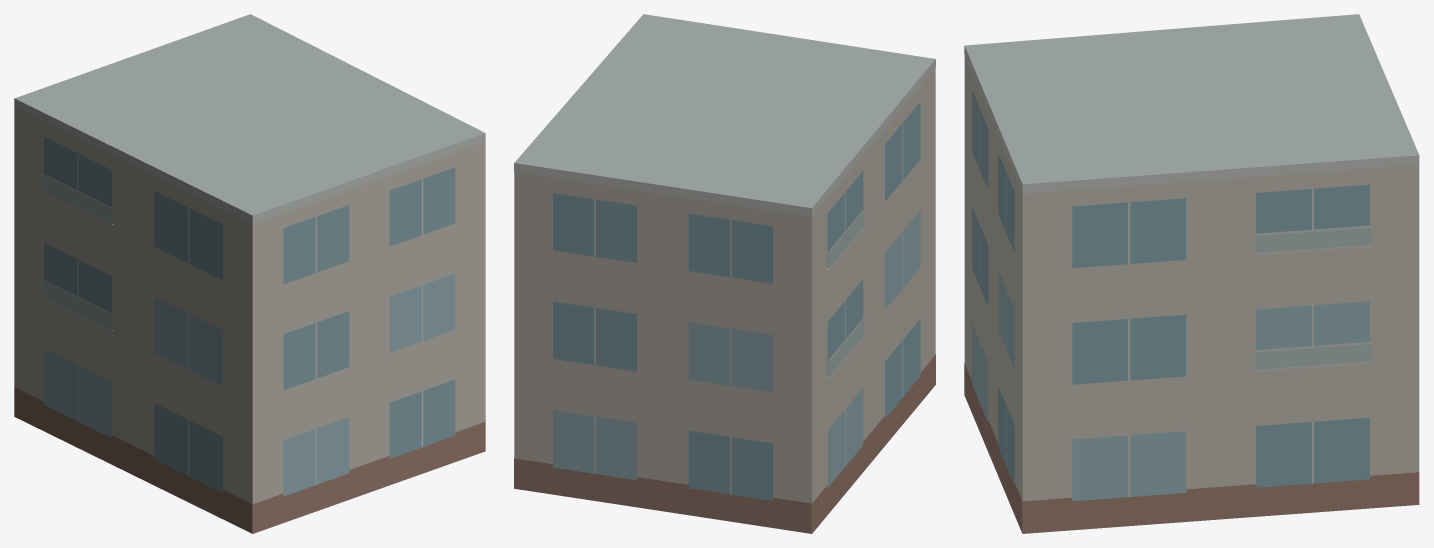
Rendered from survey-upis-32707345.glb.
3 renders of one model, left to right at view 1: azimuth 30°, elevation 25°; view 2: azimuth 150°, elevation 25°; view 3: azimuth 270°, elevation 25°, orthographic. The views are drawn at different scales.
Parts seen in each view (by area): view 1: survey-upis-32707345.tmp; view 2: survey-upis-32707345.tmp; view 3: survey-upis-32707345.tmp.
Part boxes in pixels (left/top/right/bottom): survey-upis-32707345.tmp: left=14, top=14, right=485, bottom=533; survey-upis-32707345.tmp: left=514, top=14, right=935, bottom=533; survey-upis-32707345.tmp: left=964, top=14, right=1419, bottom=533.
Size of the model in its own units: 9.57 by 9.15 by 10.81.
